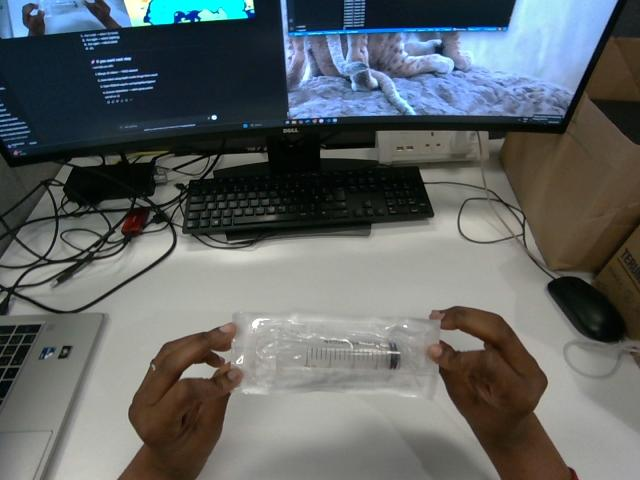syringe: (231, 312, 439, 398)
